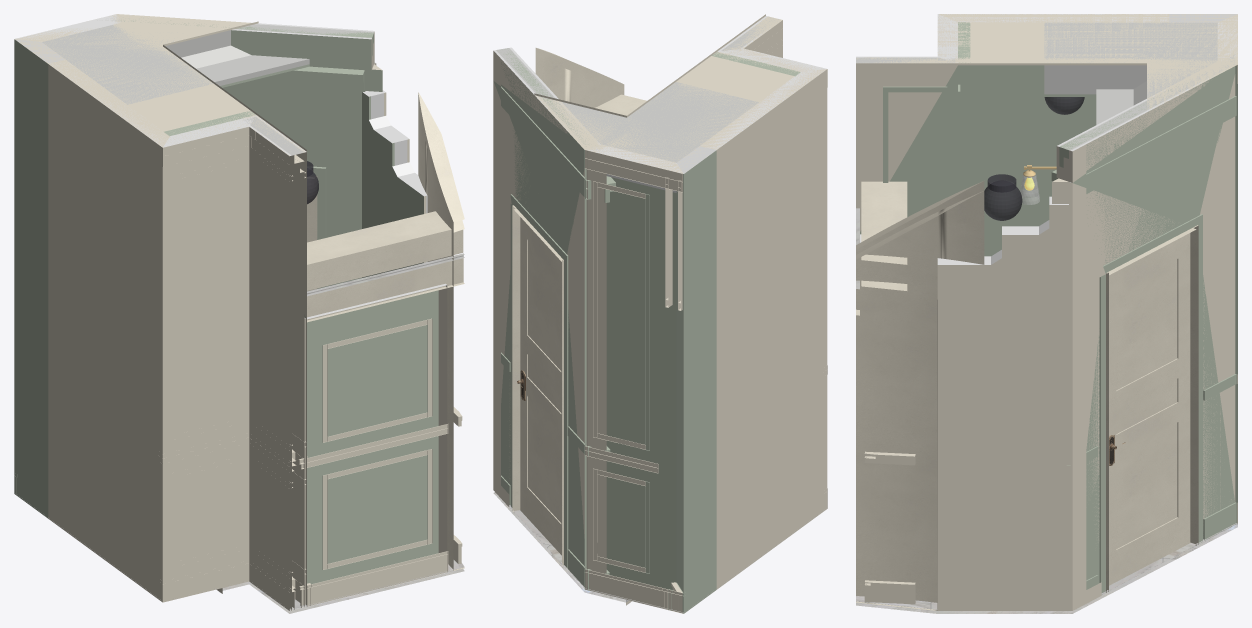
The model's file is powder-room-eeae693f08bf.glb.
3 views of the same model, side by side, from view 1: azimuth 30°, elevation 25°; view 2: azimuth 150°, elevation 25°; view 3: azimuth 270°, elevation 25° (orthographic). The views are drawn at different scales.
Parts seen in each view (by area): view 1: powder-room-d33eebe572d154f2, powder-room-1a8091885ac212af, powder-room-ab5cb5e7d303dd66, powder-room-85f0fd939e0fcc78, powder-room-9b21989b25895c4a, powder-room-a5eabba2ad6474eb, powder-room-2575515a05775d9e, powder-room-5b07a8f5f7929ff6, powder-room-ca6eafacc0f493ac, powder-room-3d7935a3f1355396, powder-room-261aa5c5ae0f77af, powder-room-b74e3495b7e70350 (+11 smaller); view 2: powder-room-d33eebe572d154f2, powder-room-a5eabba2ad6474eb, powder-room-b2b5f93b4255576d, powder-room-9b21989b25895c4a, powder-room-539cd4ce99668665, powder-room-2575515a05775d9e, powder-room-5b07a8f5f7929ff6, powder-room-86d6fc7292b21ae1, powder-room-ae2ab6de1156d266, powder-room-48dc2409da547ff7, powder-room-b74e3495b7e70350, powder-room-f5fbb4dd3b92b4c5 (+14 smaller); view 3: powder-room-d65b0a574c2ac13c, powder-room-a5eabba2ad6474eb, powder-room-b74e3495b7e70350, powder-room-539cd4ce99668665, powder-room-2575515a05775d9e, powder-room-d33eebe572d154f2, powder-room-85f0fd939e0fcc78, powder-room-5b07a8f5f7929ff6, powder-room-48dc2409da547ff7, powder-room-86d6fc7292b21ae1, powder-room-48dd1d74e06d76de, powder-room-ca6eafacc0f493ac (+17 smaller).
Part boxes in pixels (box(x1,y1,x2,y2)): powder-room-d33eebe572d154f2: box(48, 60, 167, 601); powder-room-1a8091885ac212af: box(163, 116, 255, 602); powder-room-ab5cb5e7d303dd66: box(306, 283, 447, 605); powder-room-85f0fd939e0fcc78: box(243, 115, 306, 610); powder-room-9b21989b25895c4a: box(14, 39, 64, 518); powder-room-a5eabba2ad6474eb: box(97, 14, 382, 286); powder-room-2575515a05775d9e: box(14, 14, 306, 155); powder-room-5b07a8f5f7929ff6: box(42, 24, 309, 104); powder-room-ca6eafacc0f493ac: box(307, 211, 463, 290); powder-room-3d7935a3f1355396: box(362, 92, 426, 277); powder-room-261aa5c5ae0f77af: box(306, 258, 464, 322); powder-room-b74e3495b7e70350: box(418, 103, 464, 570); powder-room-d33eebe572d154f2: box(701, 69, 827, 589); powder-room-a5eabba2ad6474eb: box(493, 47, 606, 589); powder-room-b2b5f93b4255576d: box(584, 145, 683, 593); powder-room-9b21989b25895c4a: box(676, 146, 716, 613); powder-room-539cd4ce99668665: box(520, 217, 561, 555); powder-room-2575515a05775d9e: box(534, 14, 826, 173); powder-room-5b07a8f5f7929ff6: box(562, 82, 758, 162); powder-room-86d6fc7292b21ae1: box(512, 205, 563, 565); powder-room-ae2ab6de1156d266: box(593, 181, 649, 450); powder-room-48dc2409da547ff7: box(510, 194, 568, 567); powder-room-b74e3495b7e70350: box(535, 57, 624, 107); powder-room-f5fbb4dd3b92b4c5: box(585, 569, 682, 613); powder-room-d65b0a574c2ac13c: box(937, 204, 1068, 610); powder-room-a5eabba2ad6474eb: box(1052, 54, 1235, 610); powder-room-b74e3495b7e70350: box(856, 191, 984, 610); powder-room-539cd4ce99668665: box(1109, 233, 1190, 585); powder-room-2575515a05775d9e: box(856, 14, 1237, 110); powder-room-d33eebe572d154f2: box(938, 14, 1169, 256); powder-room-85f0fd939e0fcc78: box(856, 56, 957, 234); powder-room-5b07a8f5f7929ff6: box(1044, 22, 1217, 124); powder-room-48dc2409da547ff7: box(1099, 214, 1202, 594); powder-room-86d6fc7292b21ae1: box(1106, 225, 1198, 592); powder-room-48dd1d74e06d76de: box(1086, 96, 1236, 193); powder-room-ca6eafacc0f493ac: box(861, 181, 907, 290).
Size of the model in its own units: 1.92 by 3.05 by 2.26.
27 materials, 5 textured.
